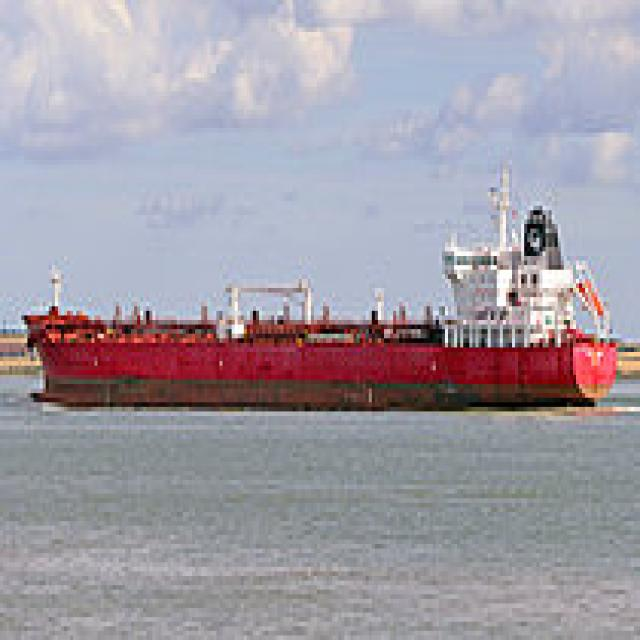Tanker: (15, 151, 619, 407)
